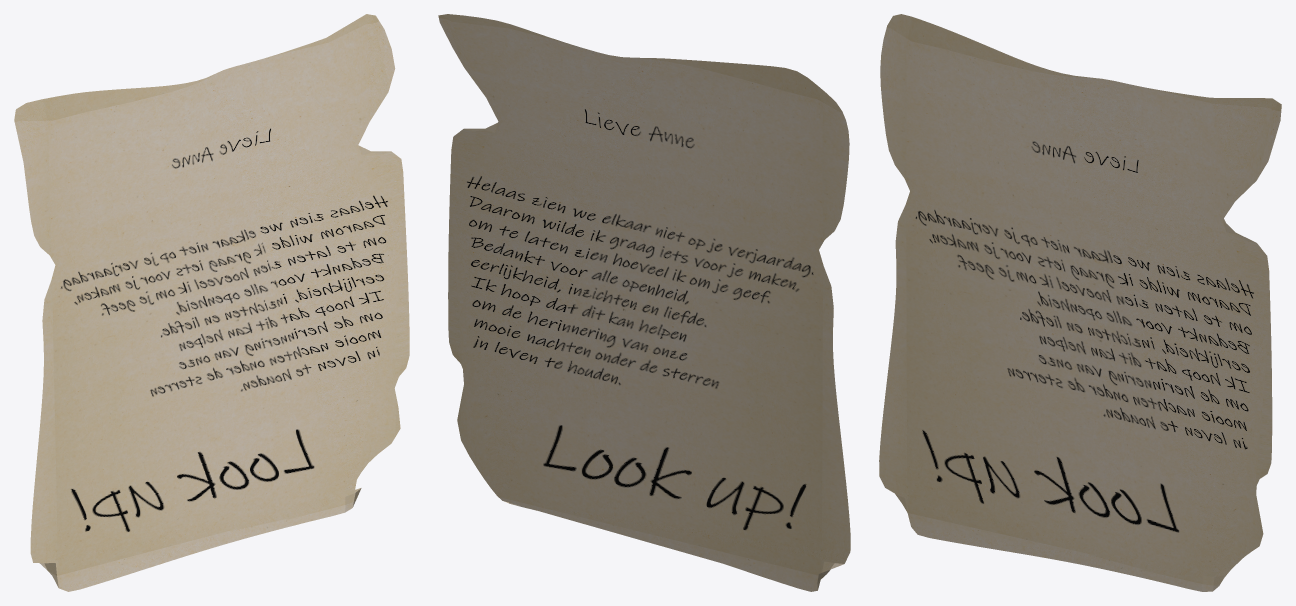
Rendered from brief.glb.
3 views of the same model, side by side, from view 1: azimuth 30°, elevation 25°; view 2: azimuth 150°, elevation 25°; view 3: azimuth 330°, elevation 25° (orthographic). The views are drawn at different scales.
Visible parts, largest first — view 1: brief; view 2: brief; view 3: brief.
Part boxes in pixels (x1,y1,x2,y2): brief: [14, 14, 409, 591]; brief: [438, 14, 850, 591]; brief: [879, 14, 1281, 591].
Bounding box in the file's own units: 0.8169 × 1 × 0.0869.
1 material, 1 textured.
